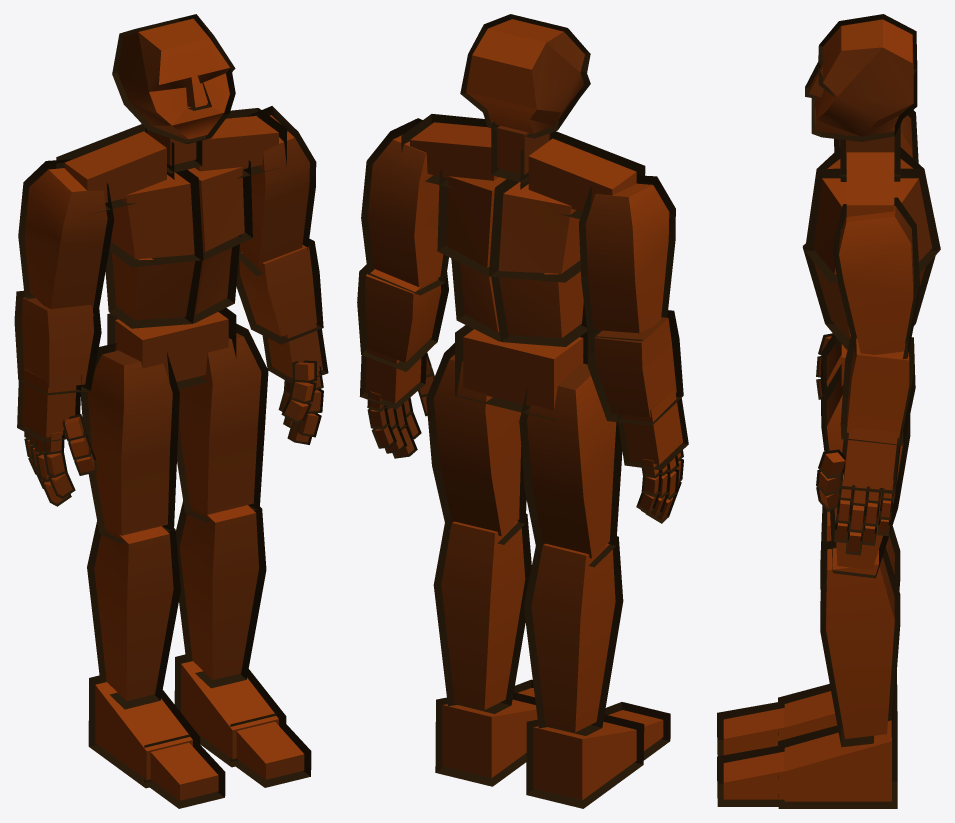
File: Crafter.glb
The picture shows the model from 3 angles, left to right: view 1: azimuth 30°, elevation 25°; view 2: azimuth 150°, elevation 25°; view 3: azimuth 270°, elevation 25°; orthographic projection. The views are drawn at different scales.
Visible parts, largest first — view 1: Mesh_Crafter; view 2: Mesh_Crafter; view 3: Mesh_Crafter.
Boxes of the visible parts, left/top/right/bottom form: Mesh_Crafter: left=14, top=14, right=328, bottom=808; Mesh_Crafter: left=357, top=14, right=688, bottom=808; Mesh_Crafter: left=717, top=14, right=940, bottom=808.
Bounding box in the file's own units: 1 × 2.4 × 0.6531.
1 material, 1 textured.
